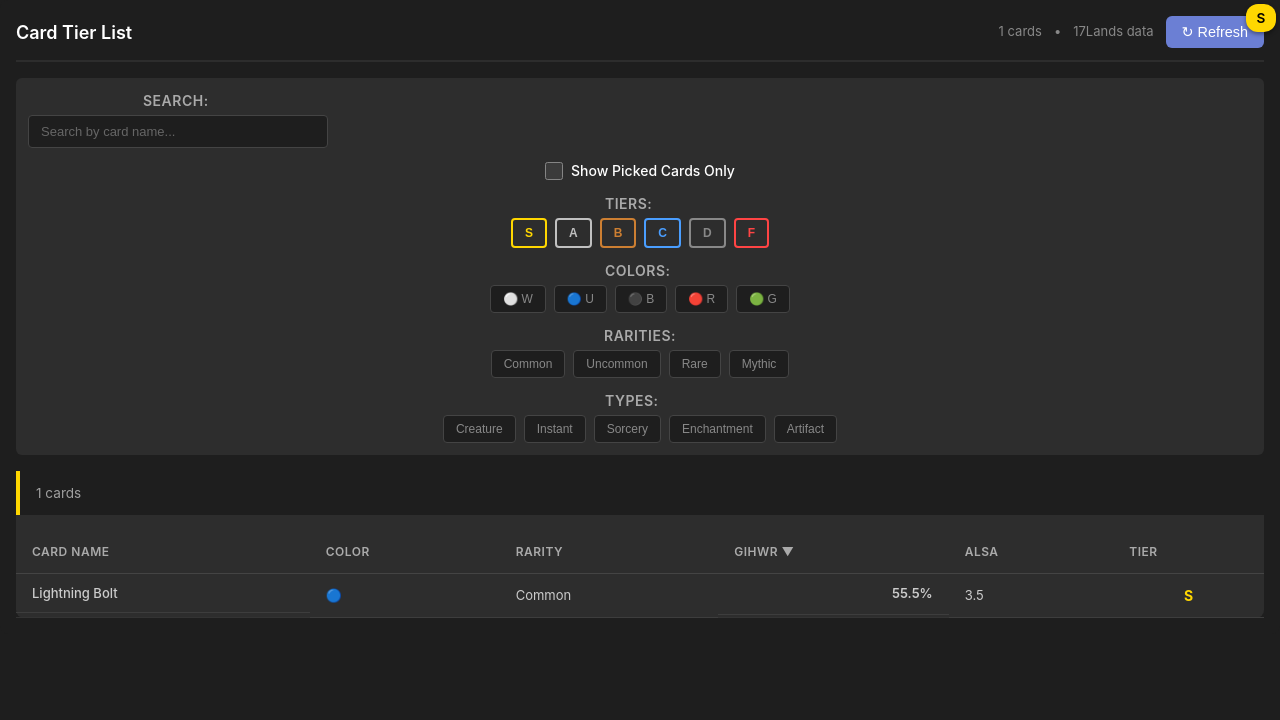
TierList Component › Search Functionality › should show clear button when search term exists
Expected: the text "Lightning Bolt" is shown, 16,576 -> 310,613
Type in search
In the field with placeholder "Search by card name...": (178, 132) 28,115 -> 328,148, type "bolt"
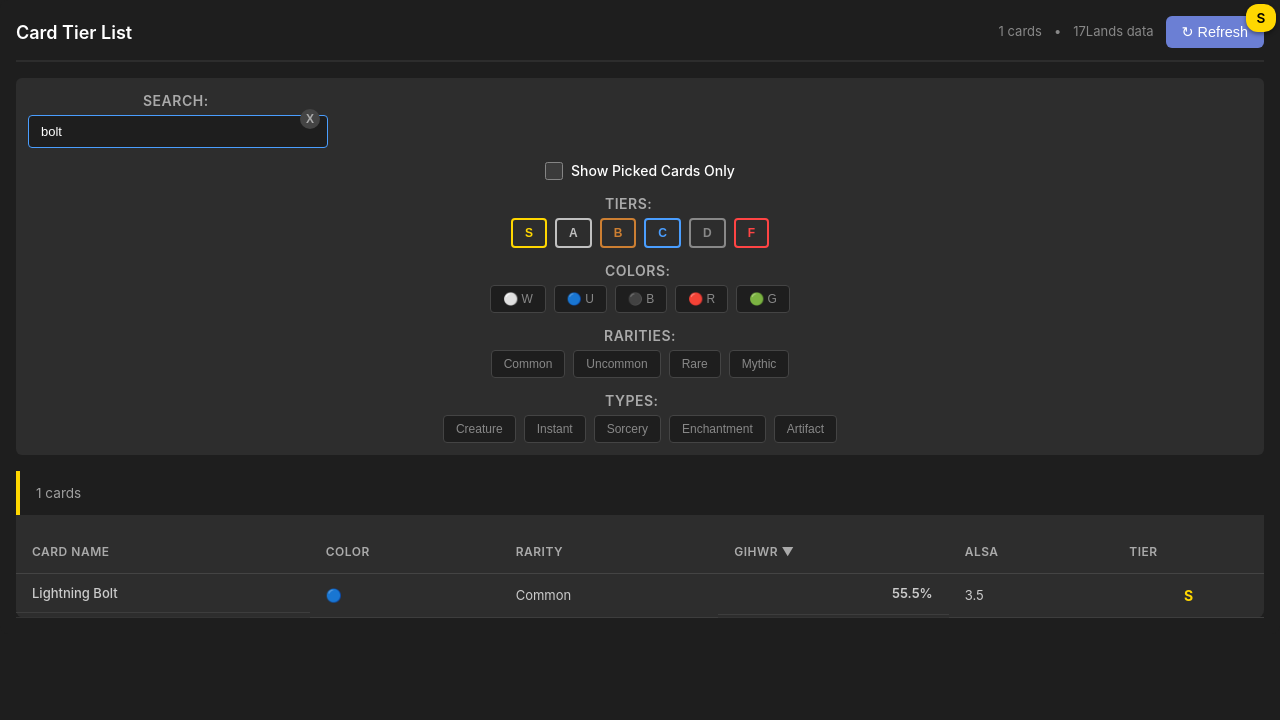
Now the button titled "Clear search" is shown, box 300,109 -> 320,129
